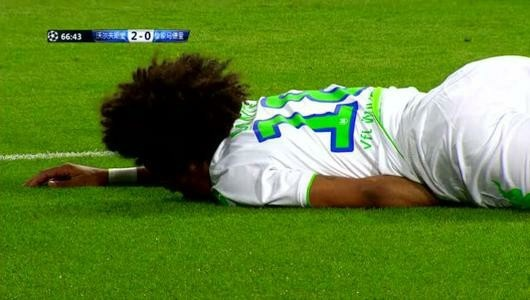falling: (0, 45, 530, 217)
